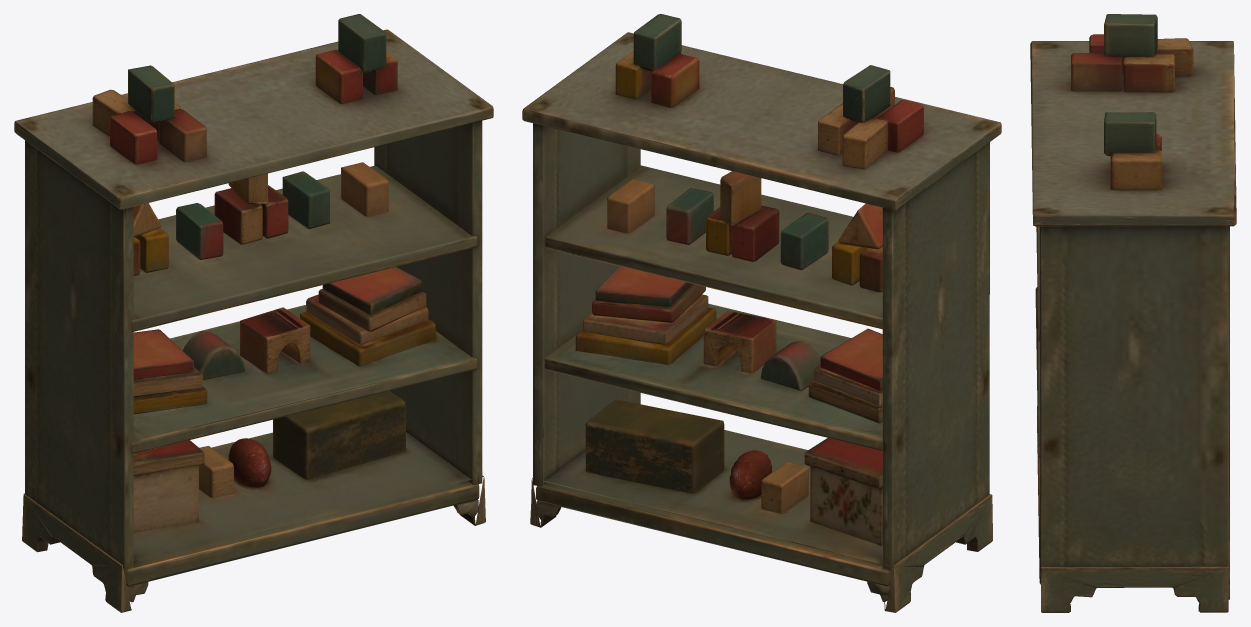
Rendered from furniture-toy-shelf.glb.
3 renders of one model, left to right at view 1: azimuth 30°, elevation 25°; view 2: azimuth 150°, elevation 25°; view 3: azimuth 270°, elevation 25°, orthographic. The views are drawn at different scales.
Visible parts, largest first — view 1: tripo_node_dcd13c22-06ee-440d-9236-dff5320bd822; view 2: tripo_node_dcd13c22-06ee-440d-9236-dff5320bd822; view 3: tripo_node_dcd13c22-06ee-440d-9236-dff5320bd822.
Part boxes in pixels (x1,y1,x2,y2): tripo_node_dcd13c22-06ee-440d-9236-dff5320bd822: [14, 14, 493, 612]; tripo_node_dcd13c22-06ee-440d-9236-dff5320bd822: [522, 14, 1001, 612]; tripo_node_dcd13c22-06ee-440d-9236-dff5320bd822: [1030, 14, 1236, 612].
Bounding box in the file's own units: 1.3 × 1.6 × 0.65.
Materials: 1 (1 with a texture image).
